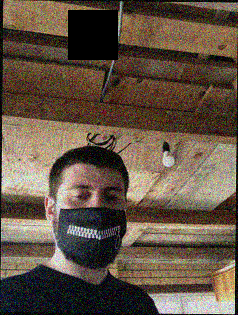with_mask: (57, 177, 127, 263)
